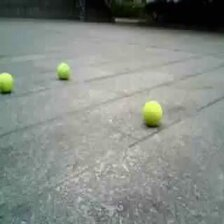tennis: (142, 100, 162, 127), (1, 72, 14, 92), (57, 63, 71, 78)
